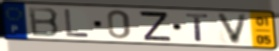0: (105, 9, 133, 41)
B: (27, 6, 62, 39)
L: (63, 8, 92, 39)
T: (184, 13, 211, 43)
V: (215, 12, 250, 46)
Z: (137, 10, 174, 43)
